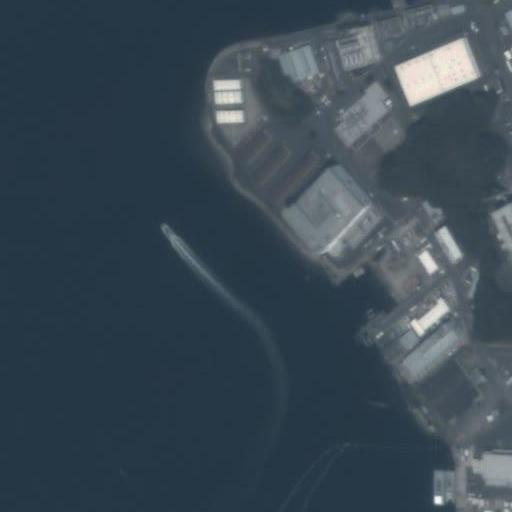person: (160, 223, 175, 240)
